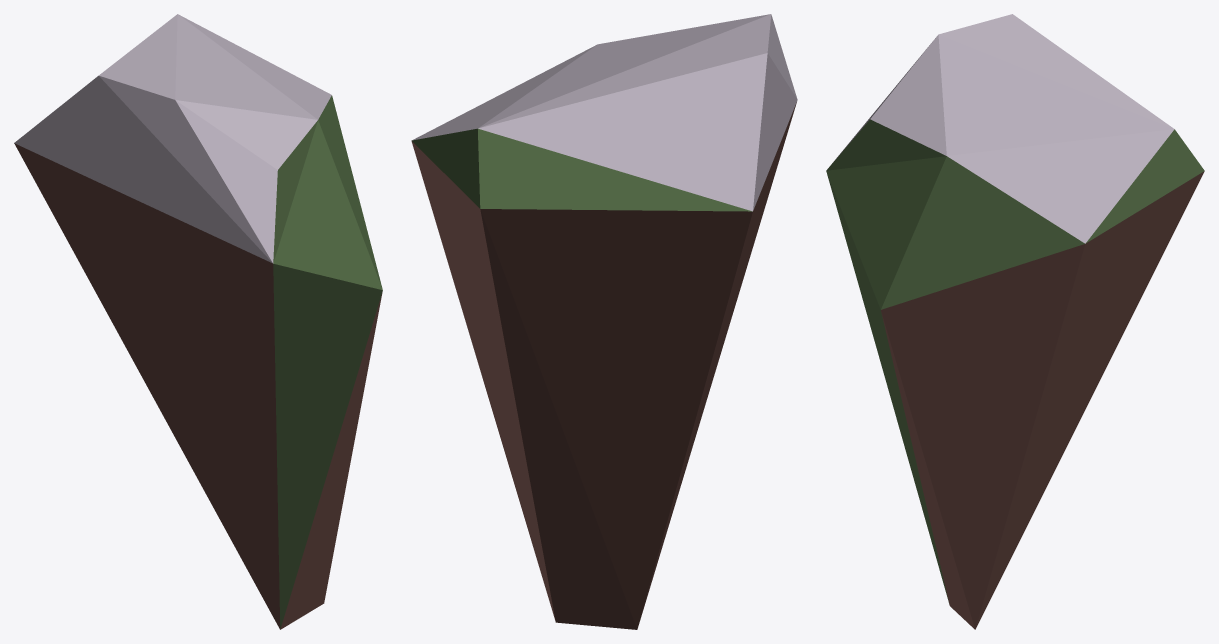
File: CommonTree_Snow_4.lod4.glb
3 views of the same model, side by side, from view 1: azimuth 30°, elevation 25°; view 2: azimuth 150°, elevation 25°; view 3: azimuth 270°, elevation 25° (orthographic). The views are drawn at different scales.
Parts seen in each view (by area): view 1: CommonTree_Snow_4; view 2: CommonTree_Snow_4; view 3: CommonTree_Snow_4.
Boxes of the visible parts, x1,y1,x2,y2 form: CommonTree_Snow_4: (14,14,382,629); CommonTree_Snow_4: (411,14,797,629); CommonTree_Snow_4: (826,14,1204,629).
Size of the model in its own units: 1.61 by 2.82 by 1.85.
